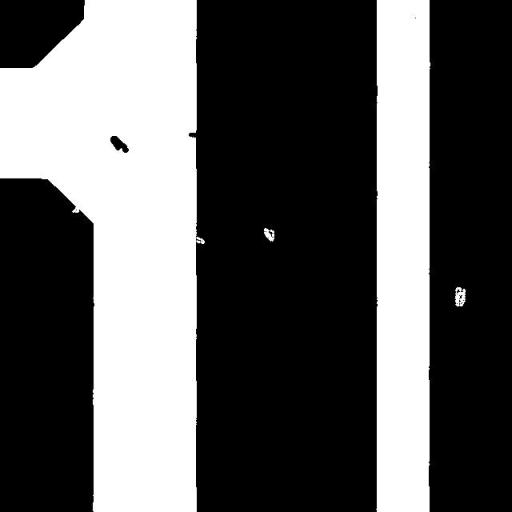copper: (102, 128, 136, 160)
mousebite: (186, 226, 212, 252), (64, 198, 86, 220)
pin-hole: (447, 279, 473, 314), (256, 220, 282, 249)
spur: (181, 124, 209, 146)
